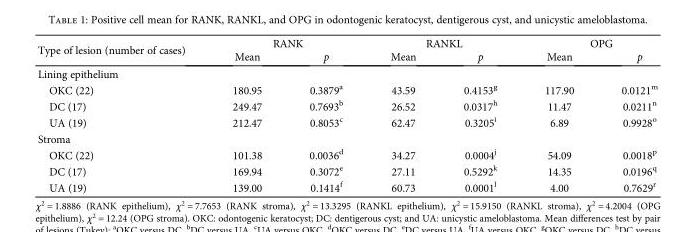table: (36, 36, 656, 193)
table column: (36, 36, 208, 193), (284, 36, 366, 193), (439, 36, 520, 193), (520, 36, 597, 193), (208, 36, 284, 193), (366, 36, 439, 193), (597, 36, 656, 193)
table column header: (36, 36, 656, 64)
table projected row header: (36, 64, 656, 80), (36, 130, 656, 145)
table row: (36, 80, 656, 97), (36, 113, 656, 130), (36, 145, 656, 162), (36, 64, 656, 80), (36, 97, 656, 113), (36, 162, 656, 178), (36, 49, 656, 64), (36, 130, 656, 145), (36, 178, 656, 193), (36, 36, 656, 49)
table spanning cell: (36, 36, 208, 64), (208, 36, 366, 49), (366, 36, 520, 49), (520, 36, 656, 49)
